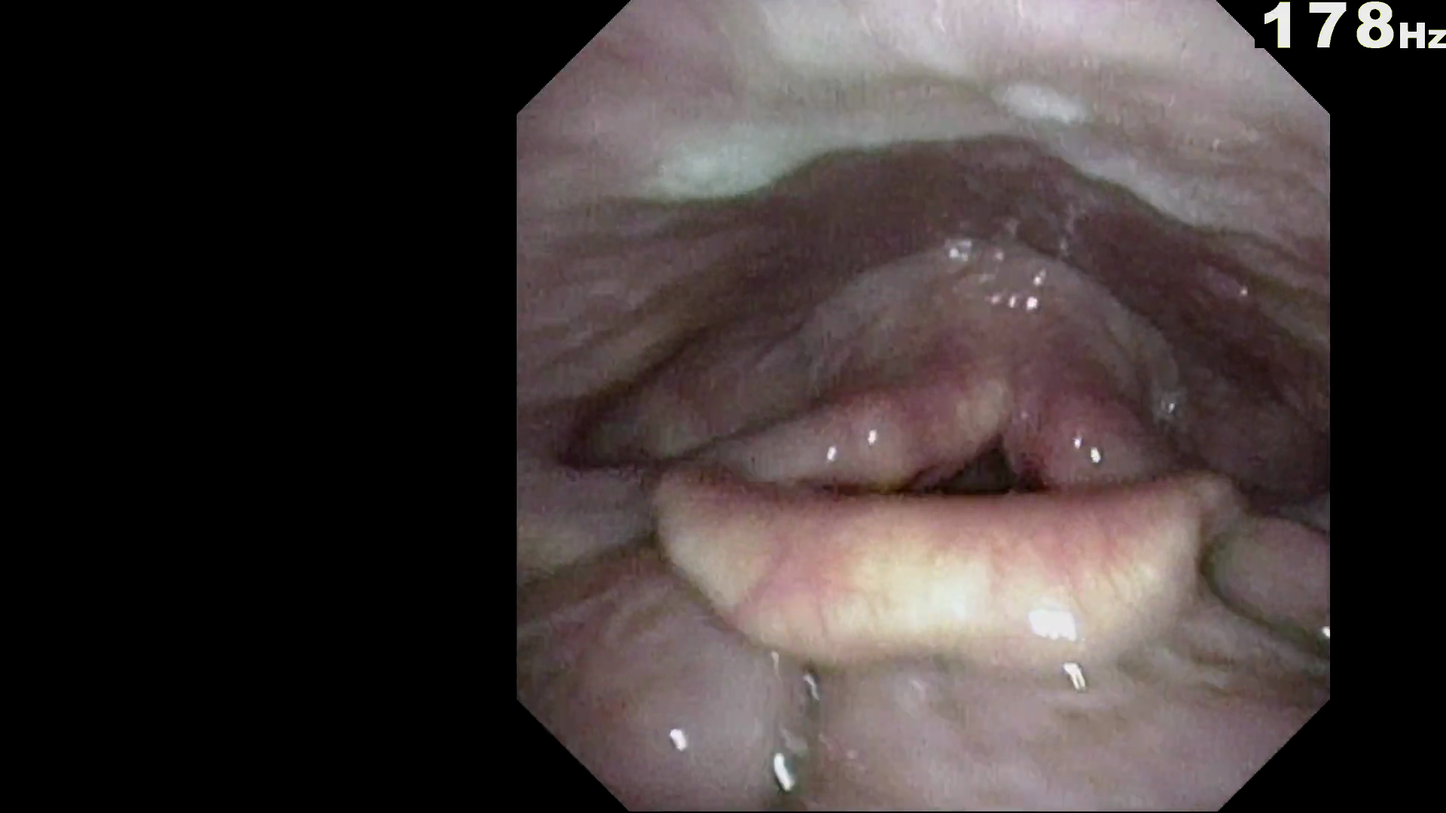epiglottis: (682, 468, 1226, 658)
trachea: (917, 440, 1072, 522)
